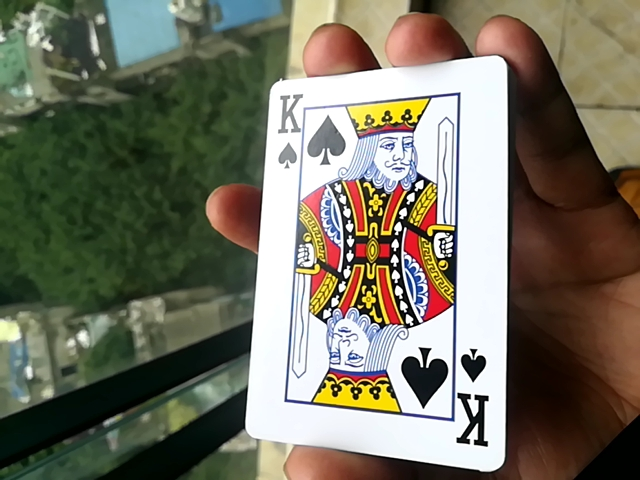ht k: (242, 61, 503, 475)
